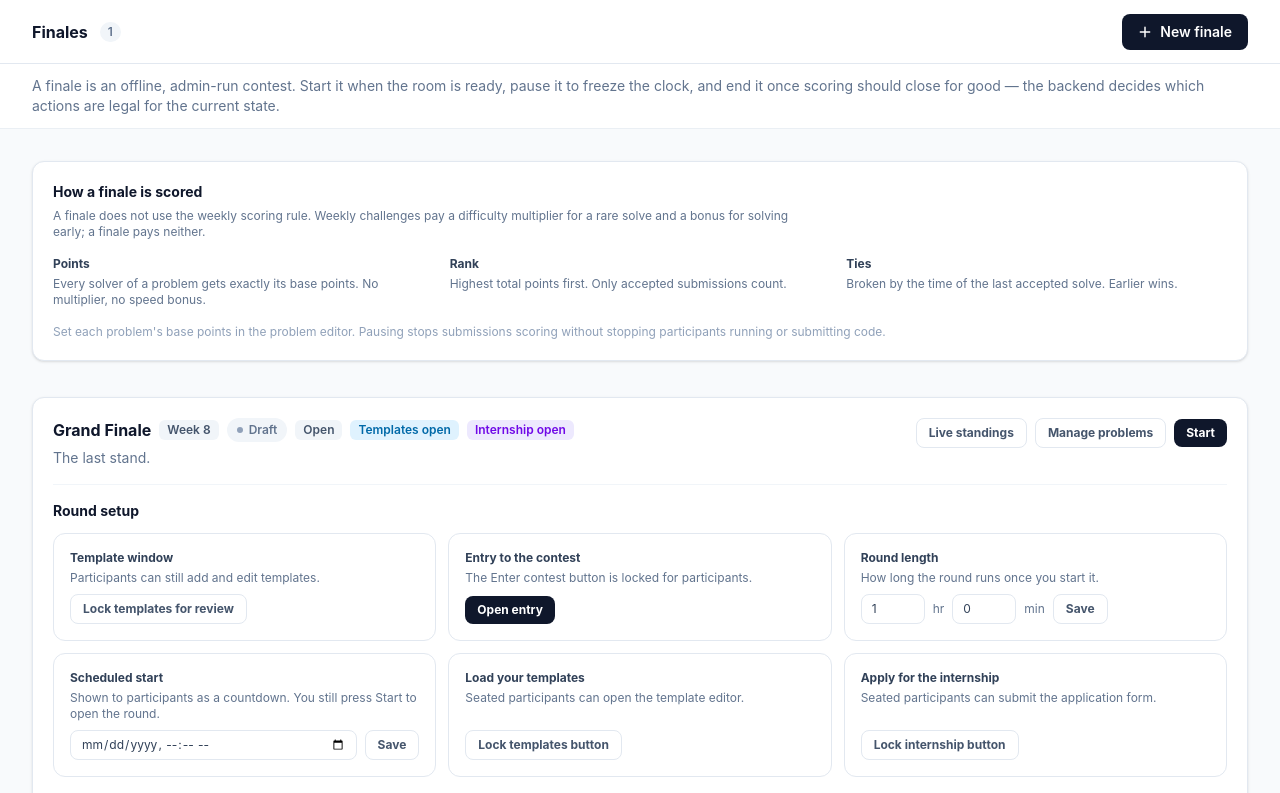
finale template window › surfaces a failure to lock instead of silently doing nothing
Click the button "Lock templates for review": (158, 609) [70,594,247,624]
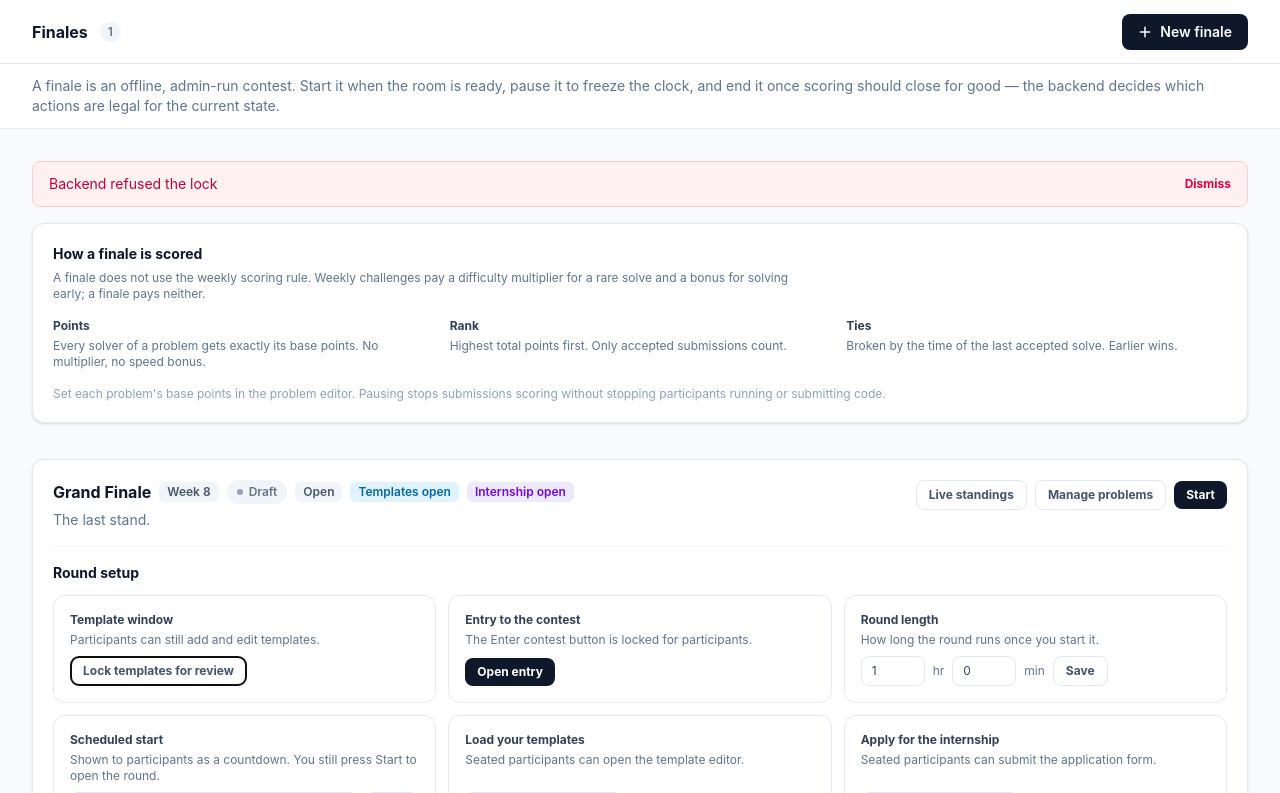
Check: the message reads "Backend refused the lock", box [49,175,218,192]
